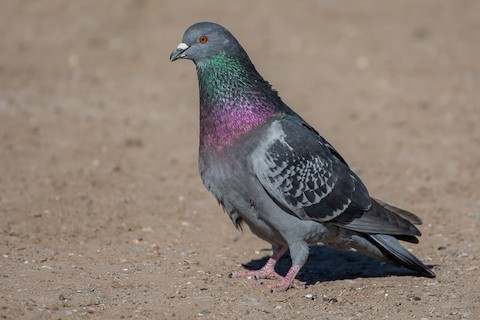pigeon: (164, 20, 442, 294)
